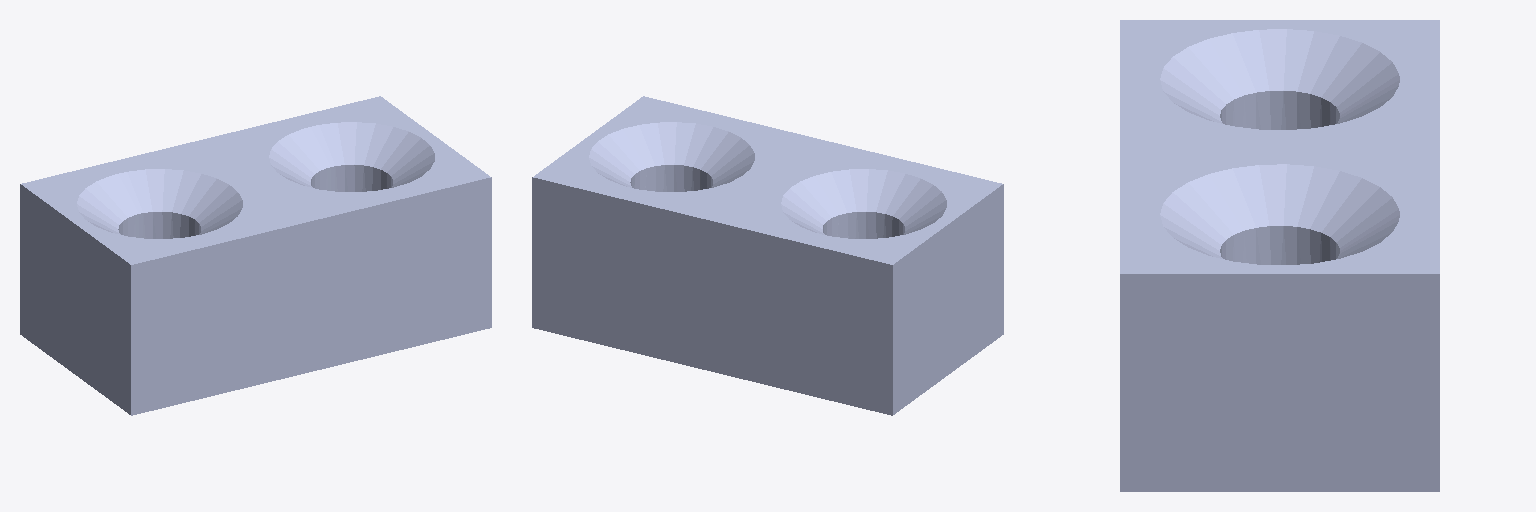
URDF robot description (Double.SLDPRT):
<?xml version="1.0" encoding="utf-8"?>
<!-- This URDF was automatically created by SolidWorks to URDF Exporter! Originally created by [author] ([email redacted]) 
     Commit Version: 1.5.1-0-g916b5db  Build Version: 1.5.7152.31018
     For more information, please see http://wiki.ros.org/sw_urdf_exporter -->
<robot
  name="Double.SLDPRT">
  <link
    name="Double.SLDPRT">
    <inertial>
      <origin
        xyz="1.0496E-20 1.41500137740288E-18 0.028636"
        rpy="0 0 0" />
      <mass
        value="0.63046" />
      <inertia
        ixx="0.00056051"
        ixy="-1.4456E-19"
        ixz="-1.12420000000009E-22"
        iyy="0.0013833"
        iyz="-2.33776325745808E-21"
        izz="0.0015745" />
    </inertial>
    <visual>
      <origin
        xyz="0 0 0"
        rpy="1.5707963267949 0 0" />
      <geometry>
        <mesh
          filename="package://Double.SLDPRT/meshes/Double.SLDPRT.STL" />
      </geometry>
      <material
        name="">
        <color
          rgba="0.79216 0.81961 0.93333 1" />
        <texture
          filename="package://Double.SLDPRT/textures/" />
      </material>
    </visual>
    <collision>
      <origin
        xyz="0 0 0"
        rpy="1.5707963267949 0 0" />
      <geometry>
        <mesh
          filename="package://Double.SLDPRT/meshes/Double.SLDPRT.STL" />
      </geometry>
    </collision>
  </link>
</robot>

--- Facts derived from the render (not from the file) ---
The picture shows the robot from 3 angles, left to right: view 1: azimuth 30°, elevation 25°; view 2: azimuth 150°, elevation 25°; view 3: azimuth 270°, elevation 25°; orthographic projection.
Model Double.SLDPRT with 1 links and 0 joints (none), rooted at Double.SLDPRT, posed every joint at zero.
Visible links, largest first — view 1: Double.SLDPRT; view 2: Double.SLDPRT; view 3: Double.SLDPRT.
Boxes of the visible links, box(x1,y1,x2,y2) form: Double.SLDPRT: box(20, 96, 491, 415); Double.SLDPRT: box(532, 96, 1003, 415); Double.SLDPRT: box(1120, 20, 1439, 491).
Bounding box of the posed robot: 0.15 × 0.08 × 0.06 m (x, y, z).
Meshes: 1 distinct files referenced, 1 mesh visuals loaded (1 binary STL).